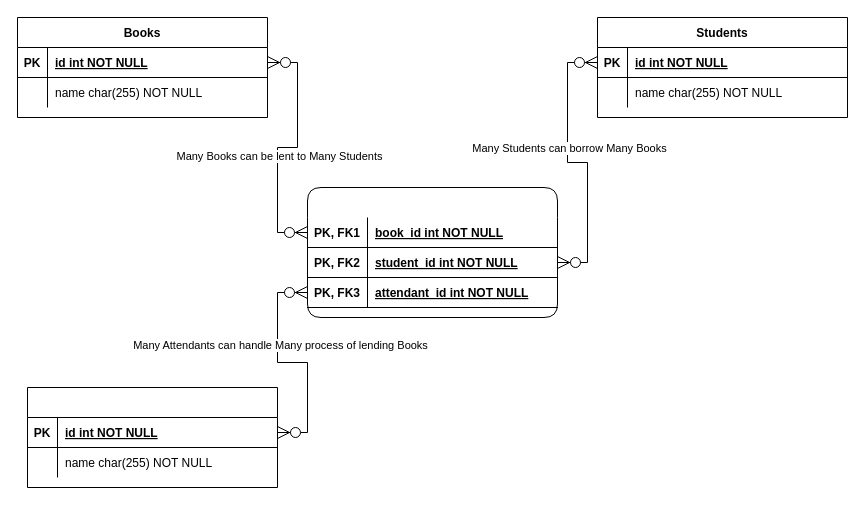
This 865x505 diagram has some shape labels left out. The shapes that lost their labels are listed below. From the top down, each one's box as (x1, y1, x2, y2) in pixels, then its label:
(306, 186, 558, 318): Books_Students_Lend
(26, 386, 278, 488): Attendants
